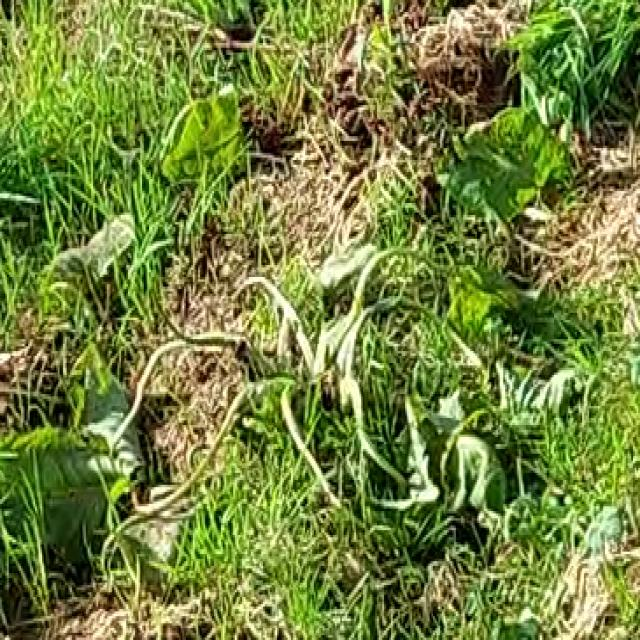organic waste: (19, 88, 580, 590)
